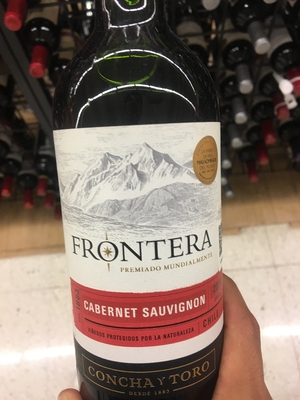frontera cabernet sauvignon: (57, 8, 240, 397)
